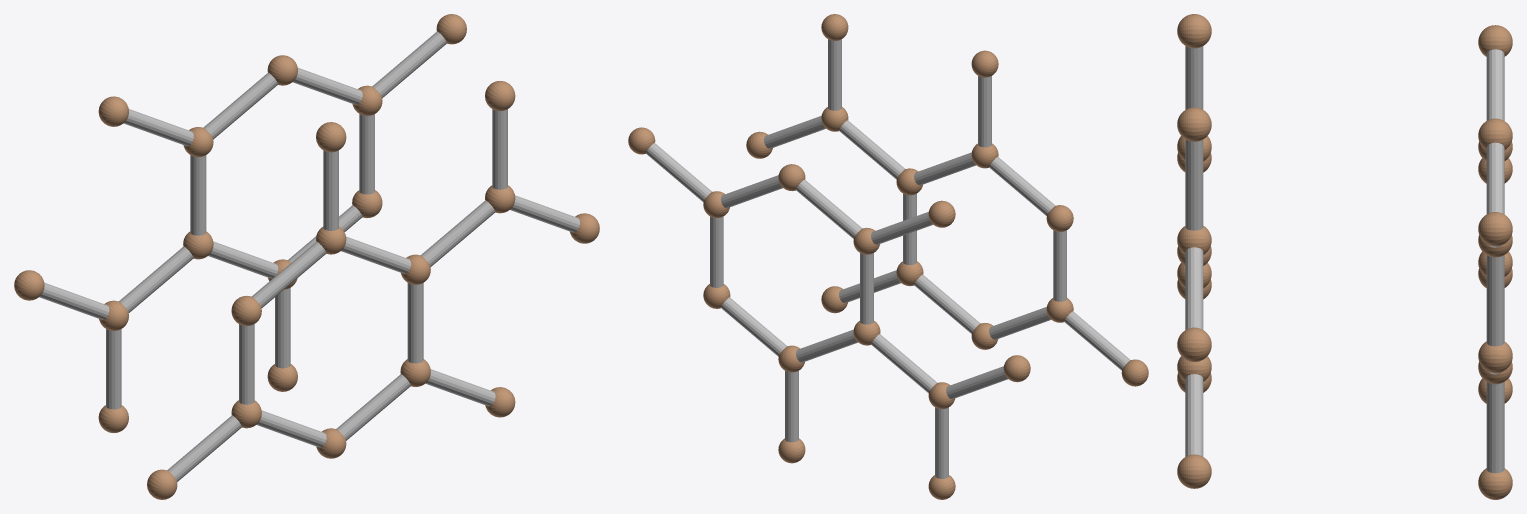
The model's file is asset.glb.
3 views of the same model, side by side, from view 1: azimuth 30°, elevation 25°; view 2: azimuth 150°, elevation 25°; view 3: azimuth 270°, elevation 25° (orthographic). The views are drawn at different scales.
Parts seen in each view (by area): view 1: Shape_Cylinder.002, Shape_Cylinder.008, Shape_Cylinder.004, Shape_Cylinder.009, Shape_Cylinder.007, Shape_Cylinder.012, Shape_Cylinder.010, Shape_Cylinder.016, Shape_Cylinder.020, Shape_Cylinder.019, Shape_Cylinder.023, Shape_Cylinder.022 (+23 smaller); view 2: Shape_Cylinder.007, Shape_Cylinder.008, Shape_Cylinder.002, Shape_Cylinder.004, Shape_Cylinder.009, Shape_Cylinder.012, Shape_Cylinder, Shape_Cylinder.010, Shape_Cylinder.018, Shape_Cylinder.020, Shape_Cylinder.023, Shape_Cylinder.017 (+18 smaller); view 3: Shape_Cylinder.022, Shape_Cylinder.019, Shape_Cylinder.018, Shape_Cylinder.001, Shape_Cylinder.003, Shape_Cylinder.013, Shape_Cylinder.015, Shape_Cylinder.023, atom1_IndexedFaceSet.002, atom1_IndexedFaceSet.004, atom1_IndexedFaceSet.005, atom1_IndexedFaceSet.008 (+9 smaller).
Part boxes in pixels (bbox=[...]): Shape_Cylinder.002: bbox=[336, 374, 410, 440]; Shape_Cylinder.008: bbox=[119, 246, 193, 312]; Shape_Cylinder.004: bbox=[421, 200, 495, 266]; Shape_Cylinder.009: bbox=[203, 72, 278, 139]; Shape_Cylinder.007: bbox=[252, 241, 326, 307]; Shape_Cylinder.012: bbox=[372, 31, 446, 97]; Shape_Cylinder.010: bbox=[167, 415, 241, 481]; Shape_Cylinder.016: bbox=[407, 283, 423, 363]; Shape_Cylinder.020: bbox=[190, 155, 206, 235]; Shape_Cylinder.019: bbox=[359, 114, 374, 194]; Shape_Cylinder.023: bbox=[323, 150, 338, 230]; Shape_Cylinder.022: bbox=[492, 109, 507, 189]; Shape_Cylinder.007: bbox=[989, 157, 1055, 215]; Shape_Cylinder.008: bbox=[871, 334, 937, 393]; Shape_Cylinder.002: bbox=[914, 275, 980, 333]; Shape_Cylinder.004: bbox=[839, 120, 905, 179]; Shape_Cylinder.009: bbox=[796, 179, 862, 238]; Shape_Cylinder.012: bbox=[646, 143, 711, 202]; Shape_Cylinder: bbox=[721, 297, 786, 356]; Shape_Cylinder.010: bbox=[1064, 311, 1130, 370]; Shape_Cylinder.018: bbox=[785, 370, 798, 442]; Shape_Cylinder.020: bbox=[860, 253, 873, 324]; Shape_Cylinder.023: bbox=[978, 76, 991, 147]; Shape_Cylinder.017: bbox=[1053, 230, 1066, 301]; Shape_Cylinder.022: bbox=[1185, 139, 1203, 230]; Shape_Cylinder.019: bbox=[1486, 255, 1504, 346]; Shape_Cylinder.018: bbox=[1486, 382, 1504, 473]; Shape_Cylinder.001: bbox=[1185, 374, 1203, 456]; Shape_Cylinder.003: bbox=[1185, 247, 1203, 329]; Shape_Cylinder.013: bbox=[1486, 142, 1504, 214]; Shape_Cylinder.015: bbox=[1486, 49, 1504, 120]; Shape_Cylinder.023: bbox=[1185, 46, 1203, 109]; atom1_IndexedFaceSet.002: bbox=[1177, 454, 1211, 488]; atom1_IndexedFaceSet.004: bbox=[1177, 327, 1211, 361]; atom1_IndexedFaceSet.005: bbox=[1177, 107, 1211, 141]; atom1_IndexedFaceSet.008: bbox=[1177, 14, 1211, 48].
Size of the model in its own units: 6.54 by 5.36 by 3.74.
